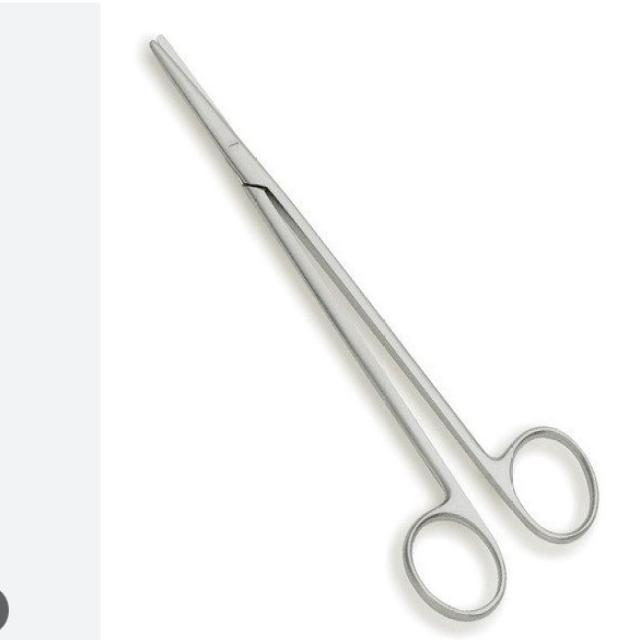Metzenbaum Sciccors: (148, 20, 602, 626)
